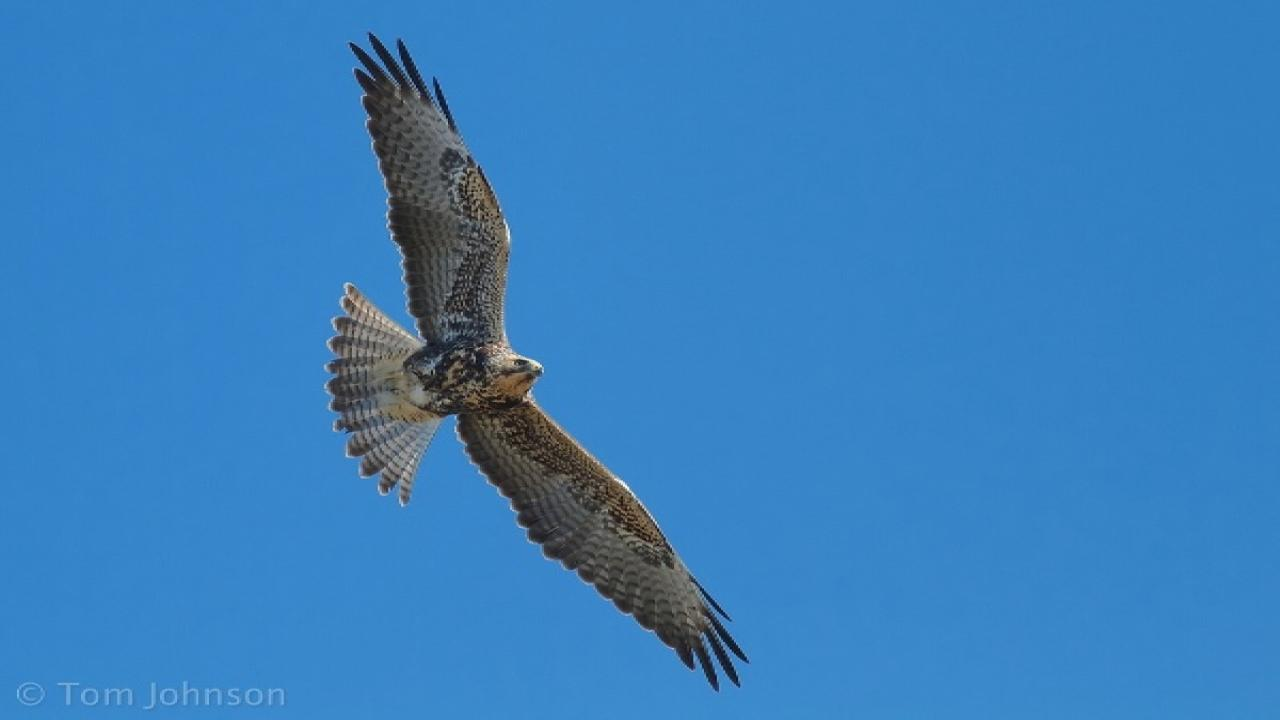Bird: (300, 20, 768, 703)
